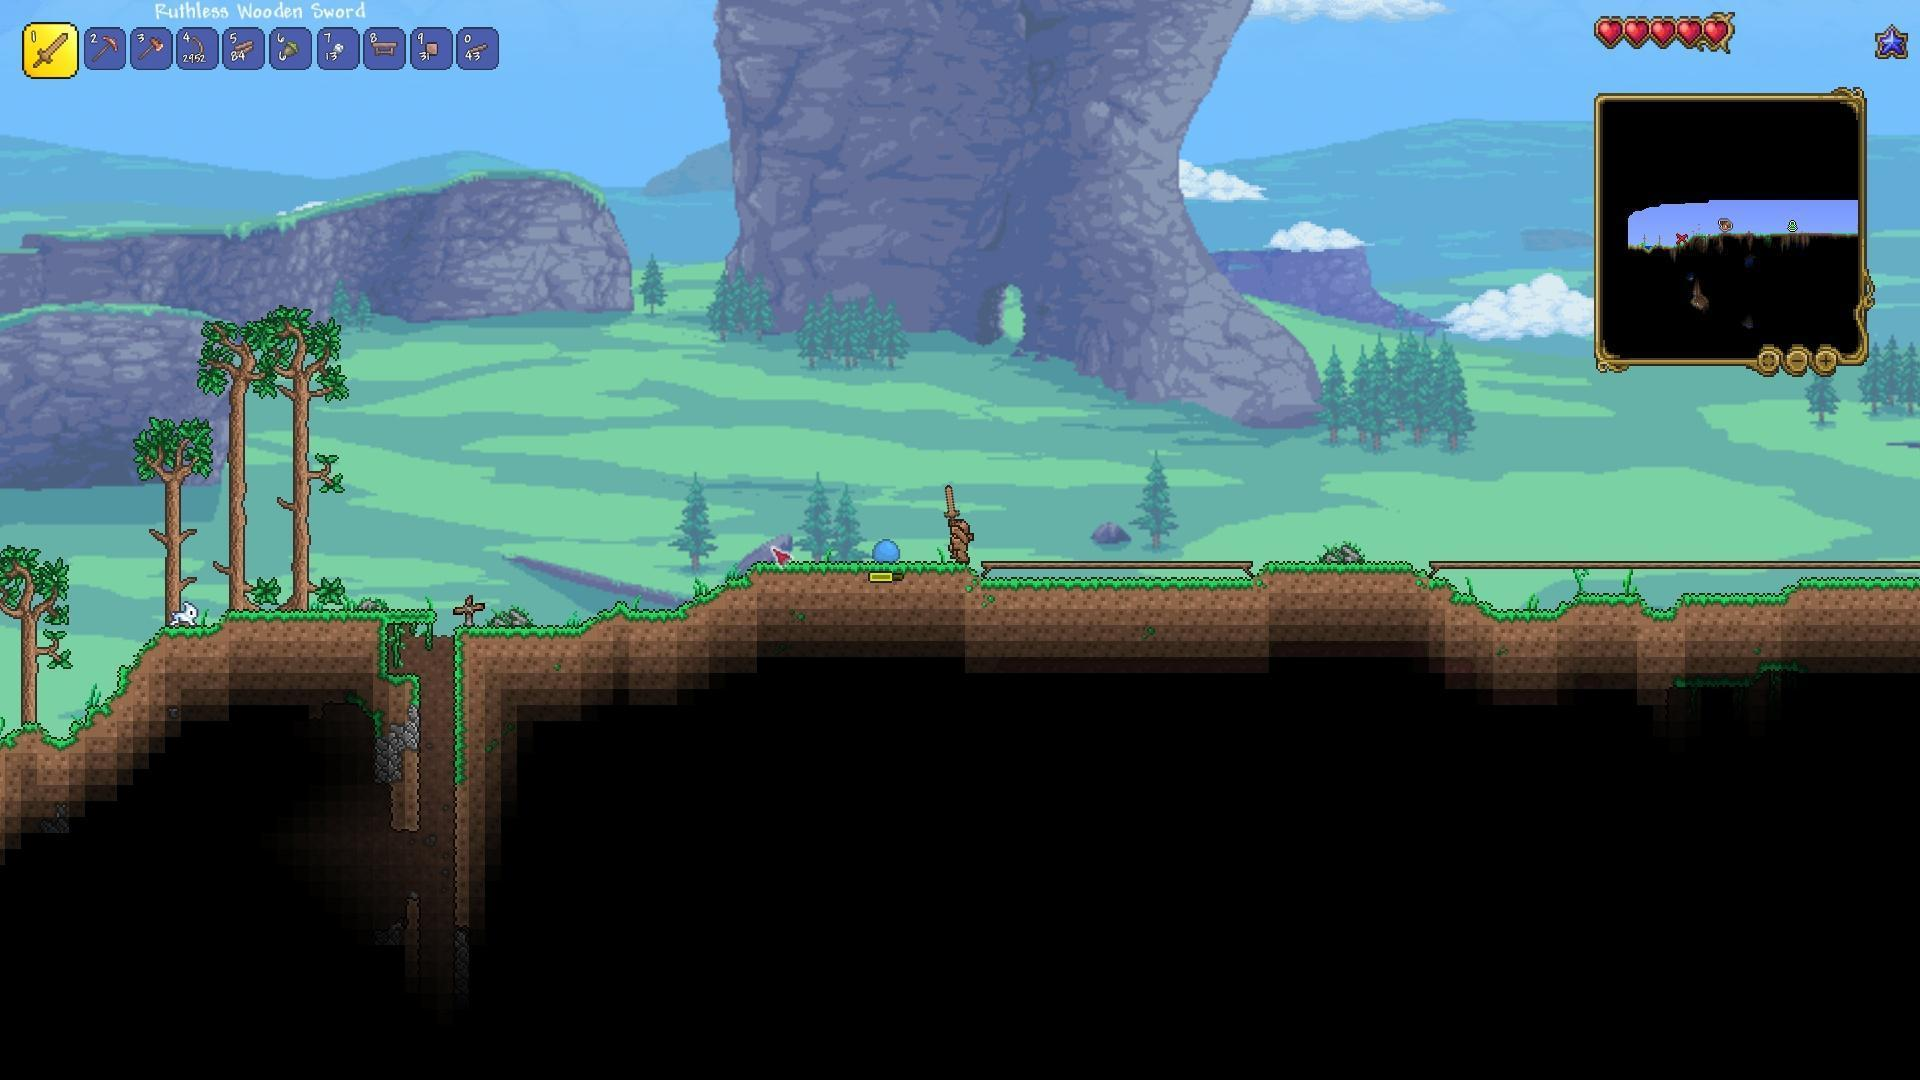slime: (870, 537, 903, 563)
wood: (227, 33, 258, 63)
workbench: (367, 36, 404, 61)
